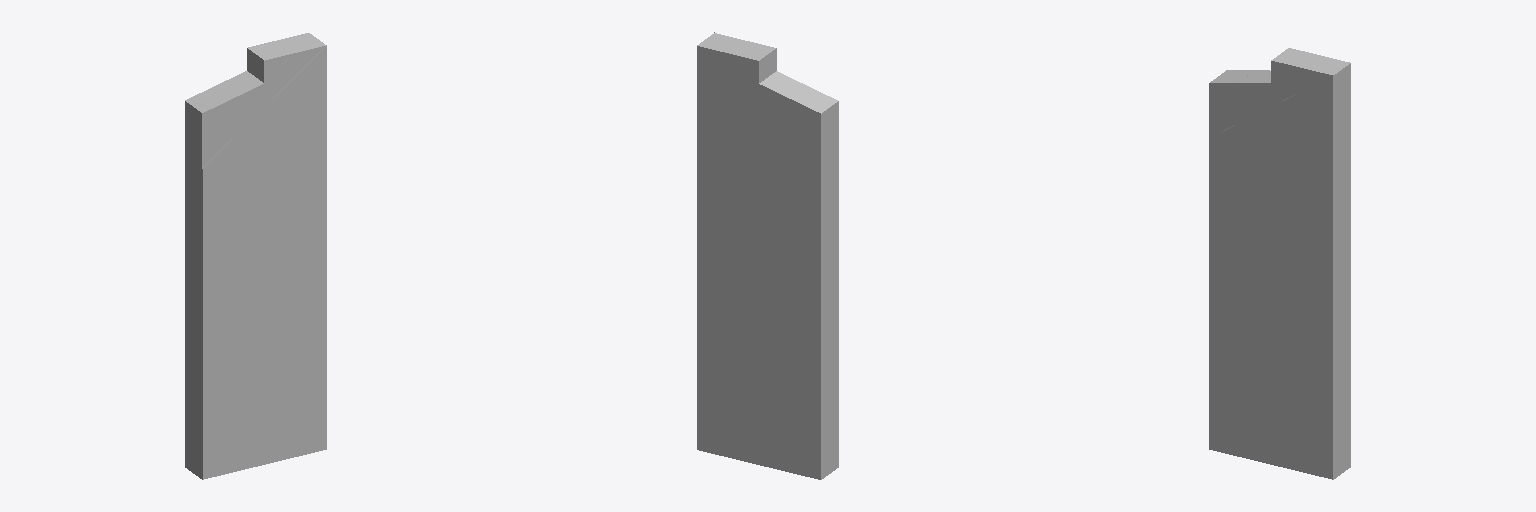
File: ConcreteBlock.obj
The picture shows the model from 3 angles: view 1: azimuth 30°, elevation 25°; view 2: azimuth 150°, elevation 25°; view 3: azimuth 330°, elevation 25°; orthographic projection.
Parts seen in each view (by area): view 1: ConcreteBlock.obj; view 2: ConcreteBlock.obj; view 3: ConcreteBlock.obj.
Boxes of the visible parts, <box> form: ConcreteBlock.obj: <box>185,33,326,479</box>; ConcreteBlock.obj: <box>697,32,838,479</box>; ConcreteBlock.obj: <box>1209,48,1350,479</box>.
Size of the model in its own units: 0.8836 by 2.74 by 0.221.